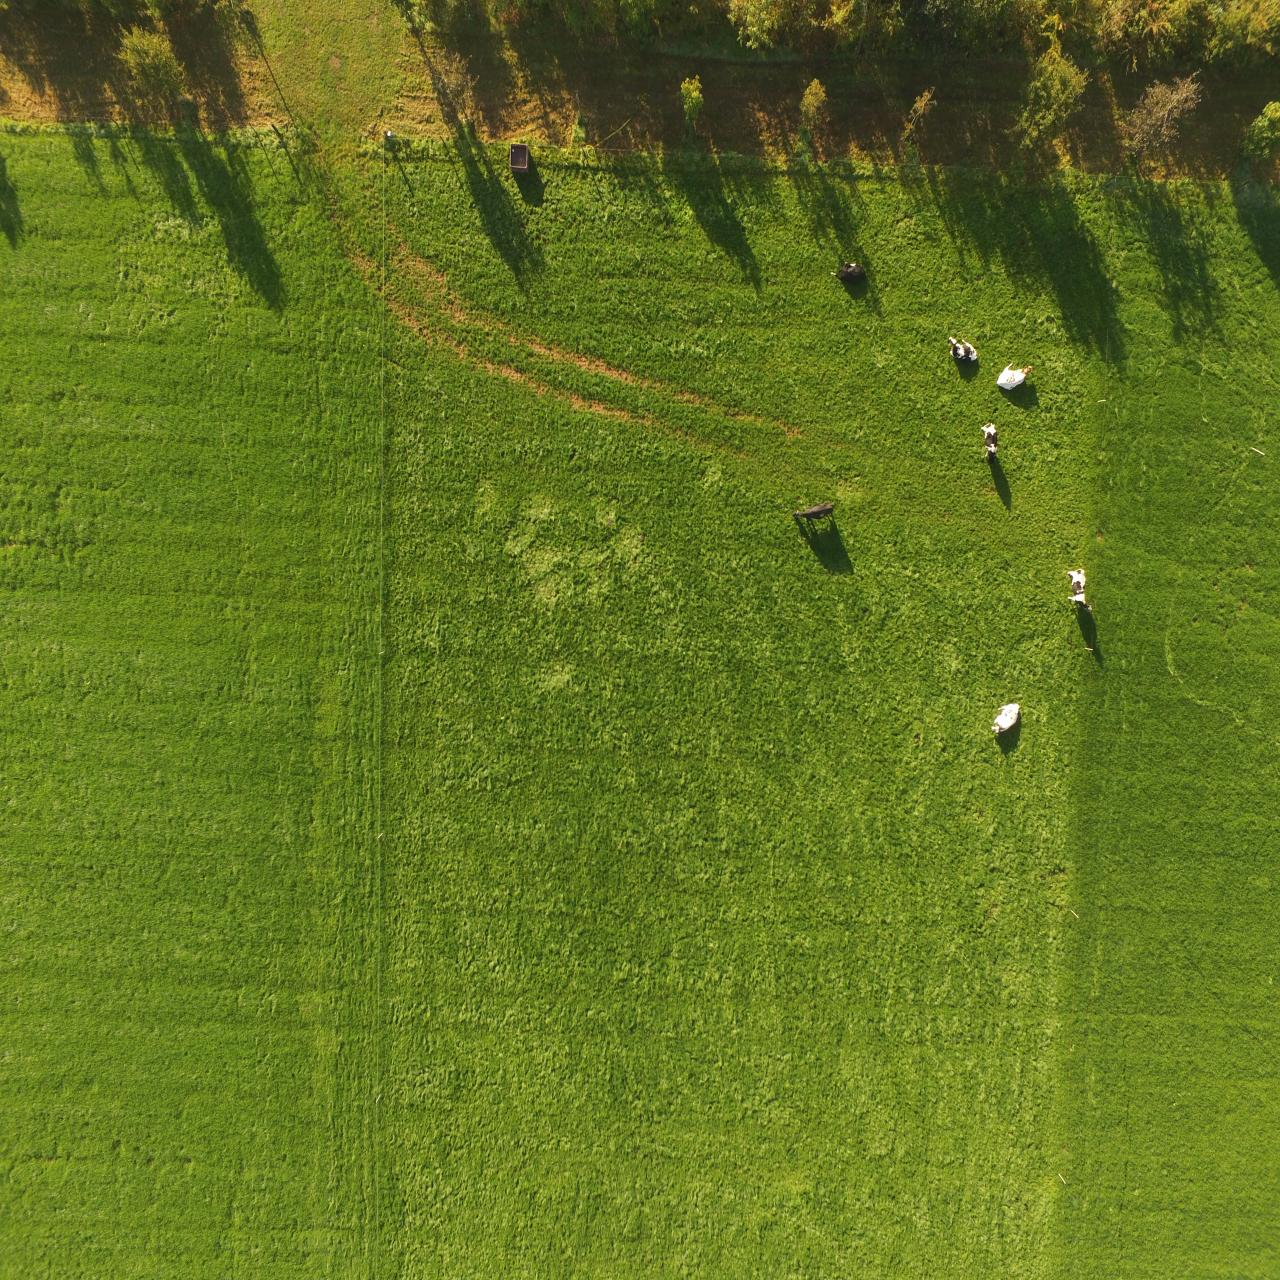cow: (791, 491, 837, 538), (986, 697, 1026, 750), (976, 420, 1008, 472), (997, 352, 1028, 402), (1066, 565, 1090, 617), (942, 325, 968, 372), (958, 334, 991, 370)
